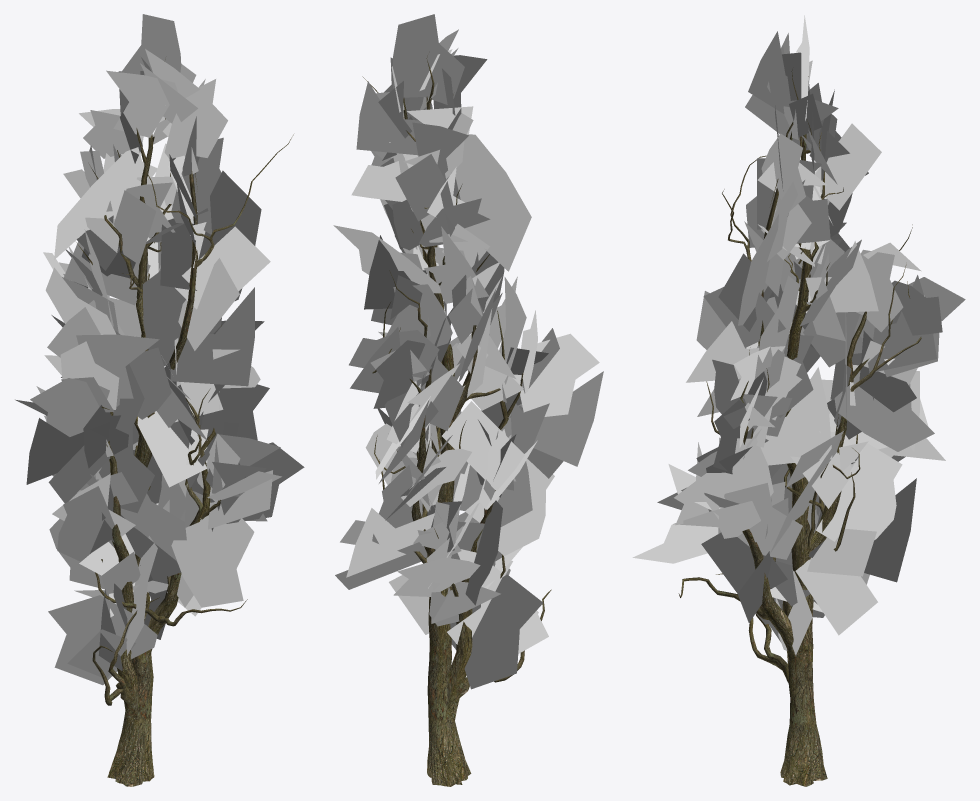
Rendered from Tree_4670.fbx.
3 renders of one model, left to right at view 1: azimuth 30°, elevation 25°; view 2: azimuth 150°, elevation 25°; view 3: azimuth 270°, elevation 25°, orthographic.
Parts seen in each view (by area): view 1: Tree_4670_Viaz_AT, Tree_4670_VIAZ_bARK; view 2: Tree_4670_Viaz_AT, Tree_4670_VIAZ_bARK; view 3: Tree_4670_Viaz_AT, Tree_4670_VIAZ_bARK.
Part boxes in pixels (bbox=[...]): Tree_4670_Viaz_AT: bbox=[15, 14, 304, 685]; Tree_4670_VIAZ_bARK: bbox=[76, 59, 293, 786]; Tree_4670_Viaz_AT: bbox=[333, 14, 603, 689]; Tree_4670_VIAZ_bARK: bbox=[362, 55, 551, 786]; Tree_4670_Viaz_AT: bbox=[632, 15, 965, 655]; Tree_4670_VIAZ_bARK: bbox=[678, 69, 921, 786].
Bounding box in the file's own units: 17.02 × 49.03 × 19.27.
